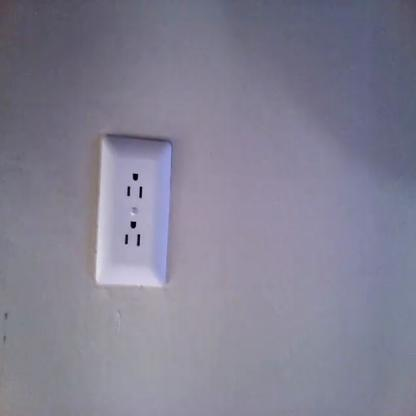OUTLET: (95, 134, 172, 286)
